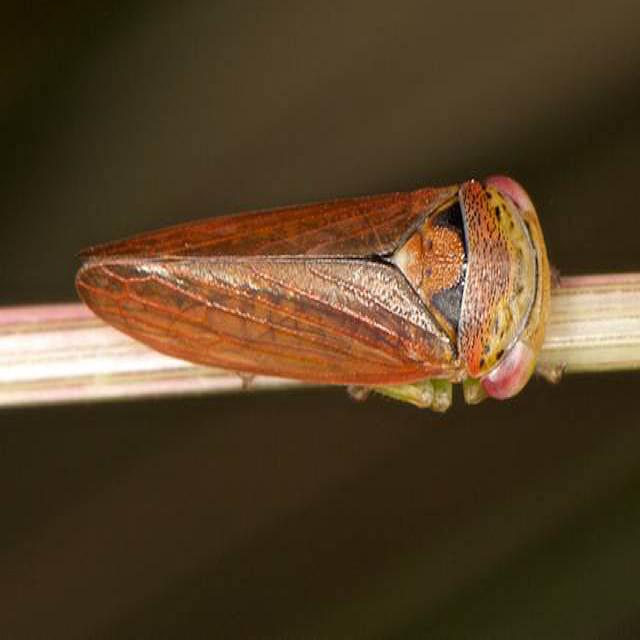Yechan: (60, 155, 576, 419)
